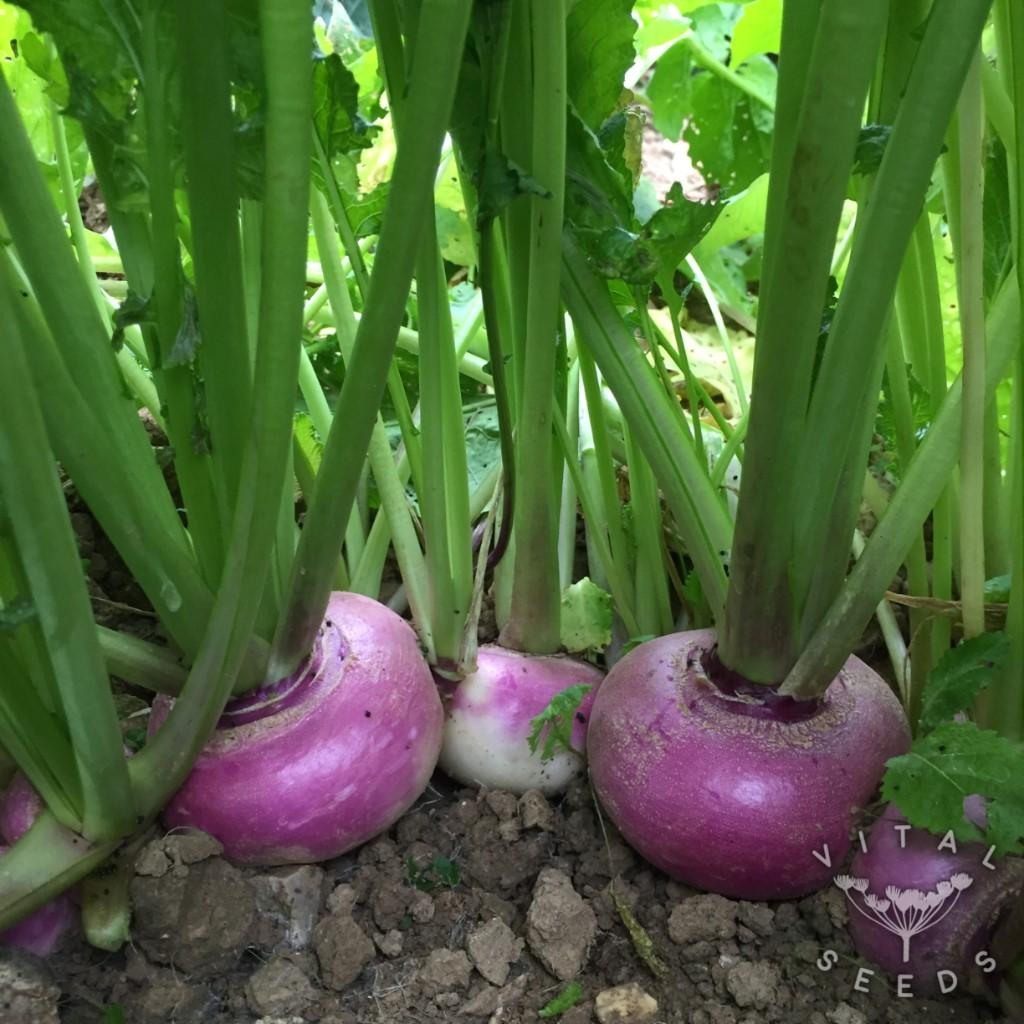turnip: (584, 625, 913, 901), (143, 587, 445, 867), (436, 452, 609, 797), (833, 793, 1022, 999), (436, 642, 605, 797)
